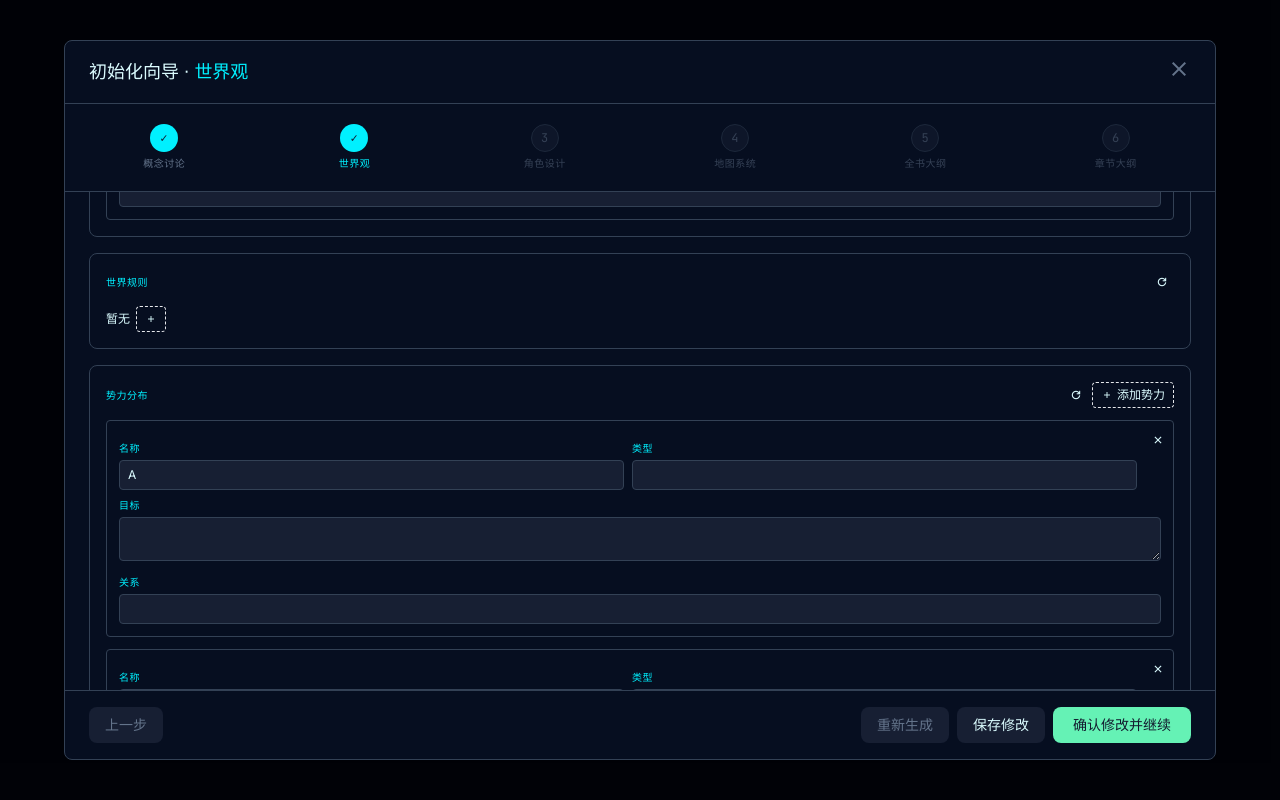
it: WorldStep › faction remove button drops the row
(page scrolled)
Click the button with test id "world-faction-0-remove" at (1158,441), box [1151, 429, 1165, 453]
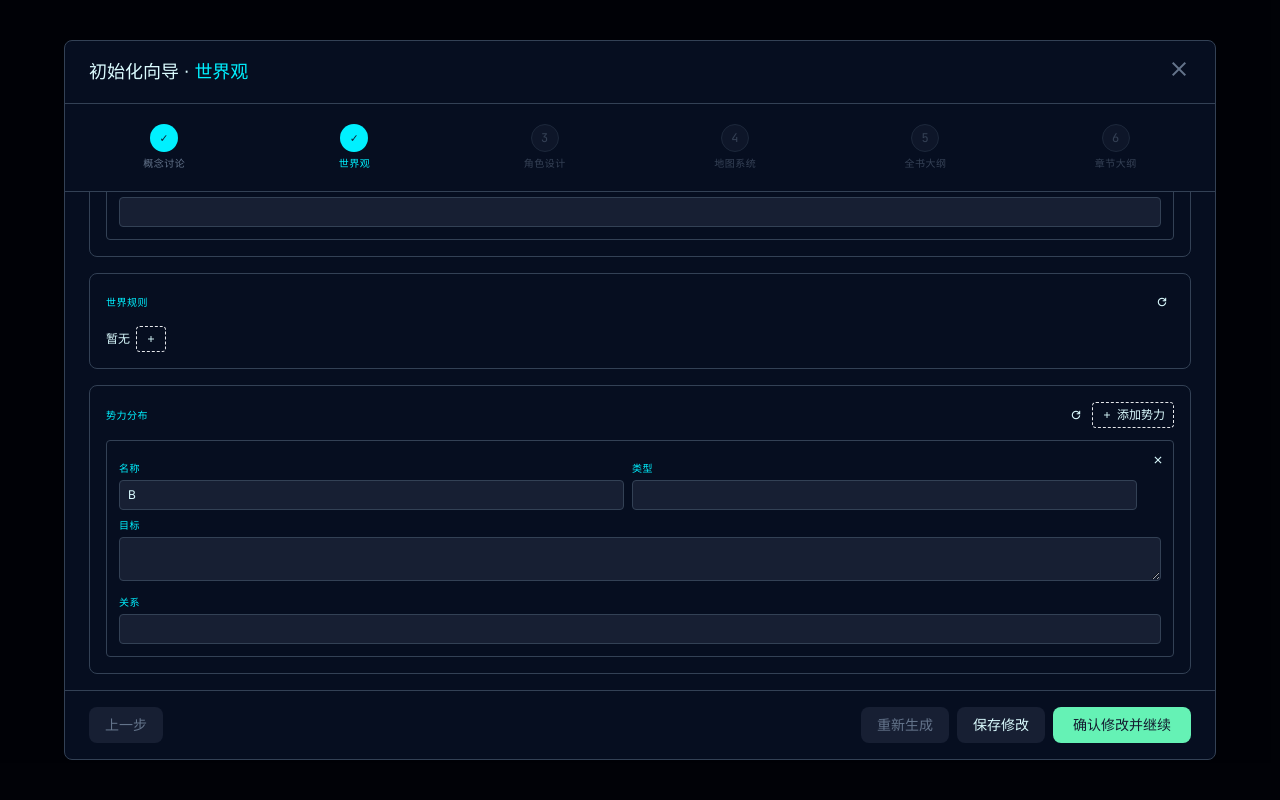
Expected: the field with test id "world-faction-0-name" holds "B", [119, 480, 624, 510]
